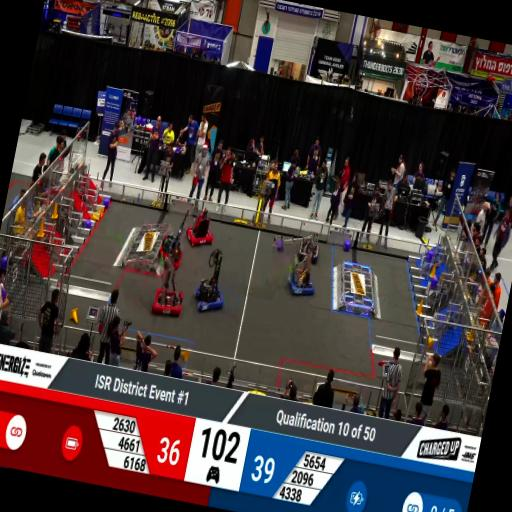robot: (192, 251, 232, 315), (283, 258, 320, 304), (150, 276, 188, 320), (184, 209, 218, 252), (157, 232, 187, 273), (294, 230, 324, 264)
